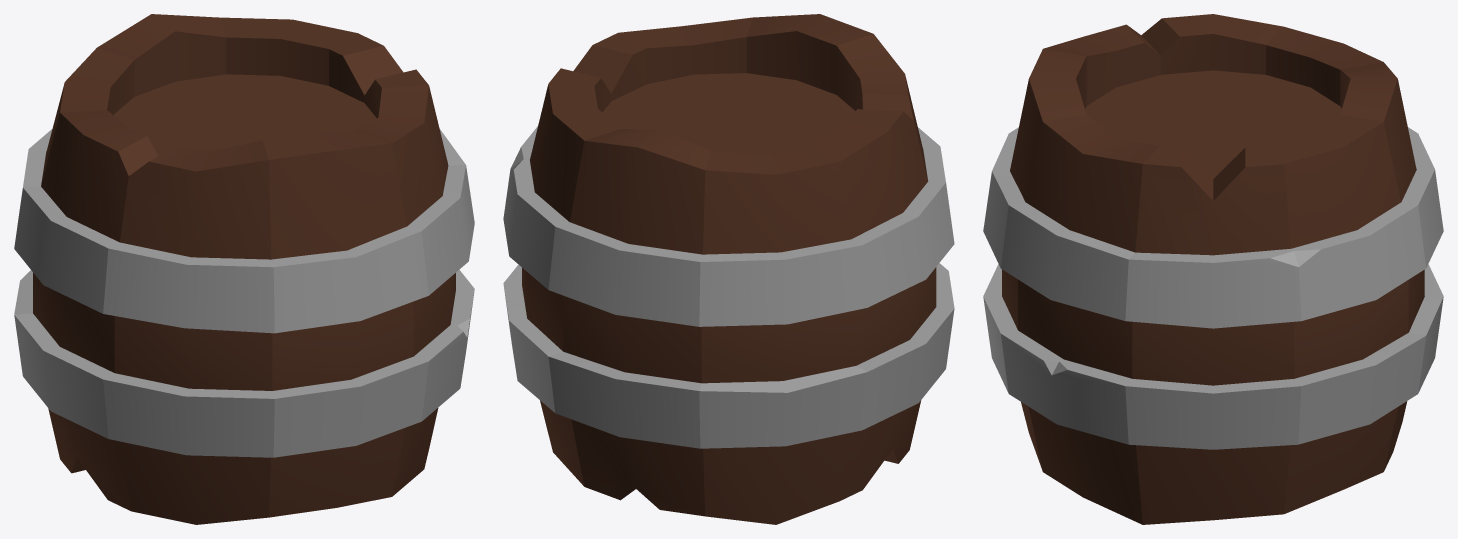
File: barrel.fbx
3 views of the same model, side by side, from view 1: azimuth 30°, elevation 25°; view 2: azimuth 150°, elevation 25°; view 3: azimuth 270°, elevation 25° (orthographic). The views are drawn at different scales.
Visible parts, largest first — view 1: Cylinder.001, Cylinder.002; view 2: Cylinder.001, Cylinder.002; view 3: Cylinder.001, Cylinder.002.
Part boxes in pixels (box(x1,y1,x2,y2)): Cylinder.001: box(33, 14, 455, 524); Cylinder.002: box(14, 129, 474, 457); Cylinder.001: box(522, 14, 936, 524); Cylinder.002: box(503, 126, 954, 448); Cylinder.001: box(1002, 14, 1424, 524); Cylinder.002: box(983, 127, 1443, 449).
Bounding box in the file's own units: 250 × 224 × 250.
